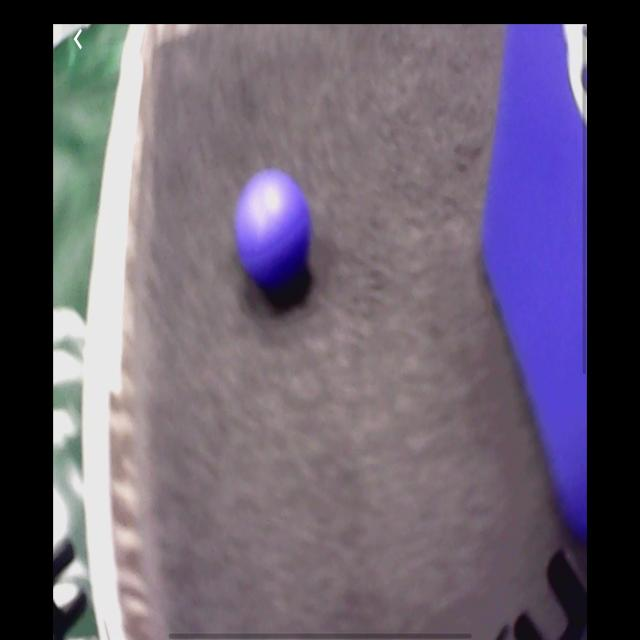ball: (234, 170, 313, 287)
